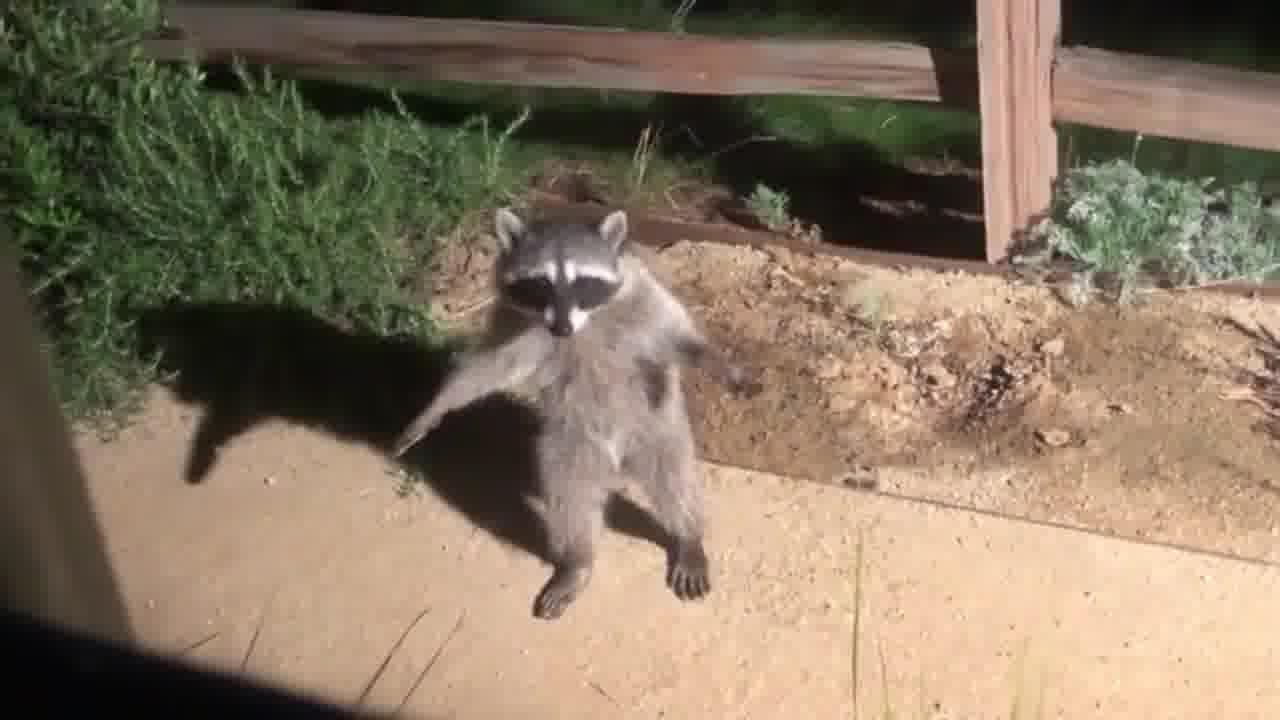raccoon: (394, 202, 763, 623)
